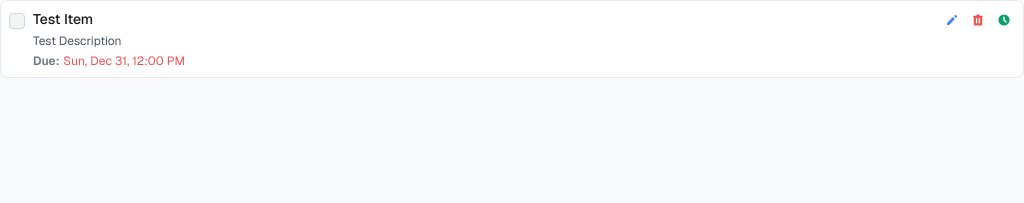
TodoItem Component › shows reminder form when add reminder button is clicked
Click the button titled "Add Reminder".
click(1004, 20)  # box [993,9,1015,31]
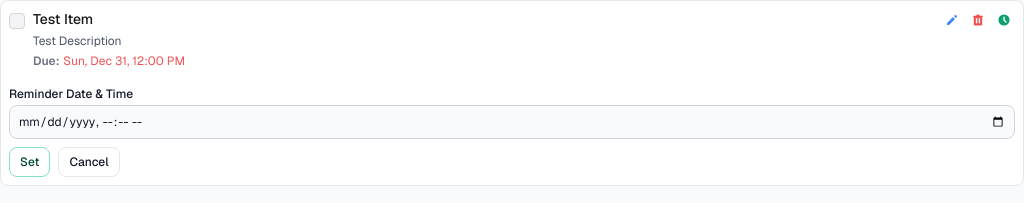
Result: the text "Set" is shown at [20,154,40,170]
